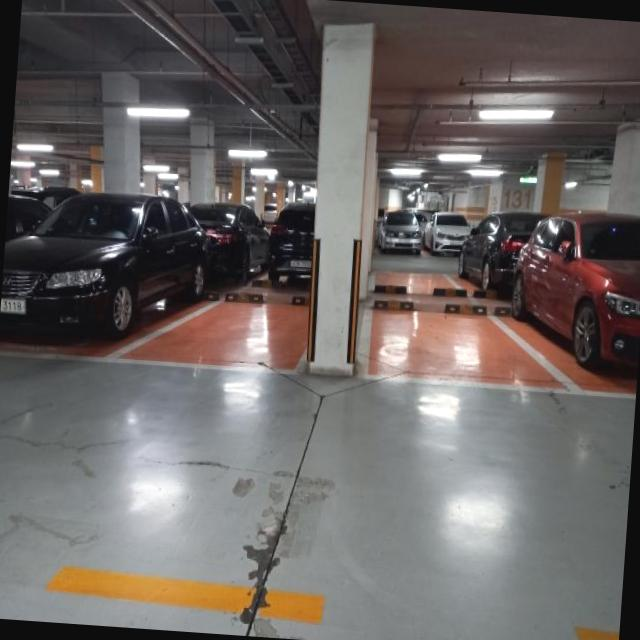car: (0, 189, 210, 351), (514, 204, 640, 380)
free: (367, 290, 552, 377)
